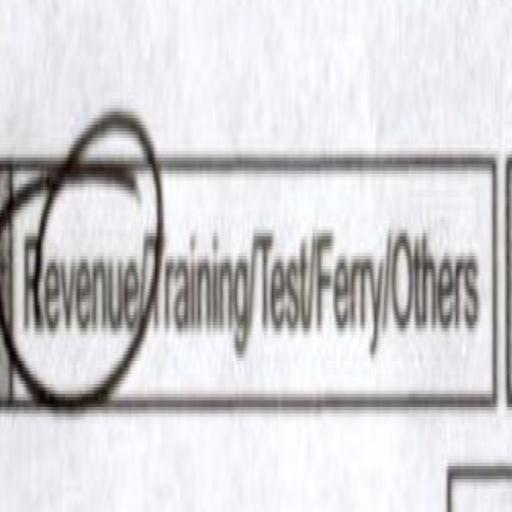check: (21, 127, 139, 447)
